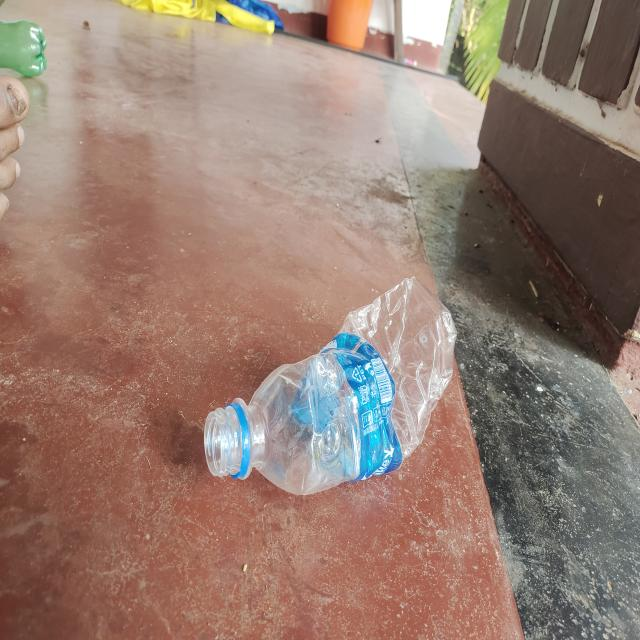plastic: (202, 278, 462, 496)
